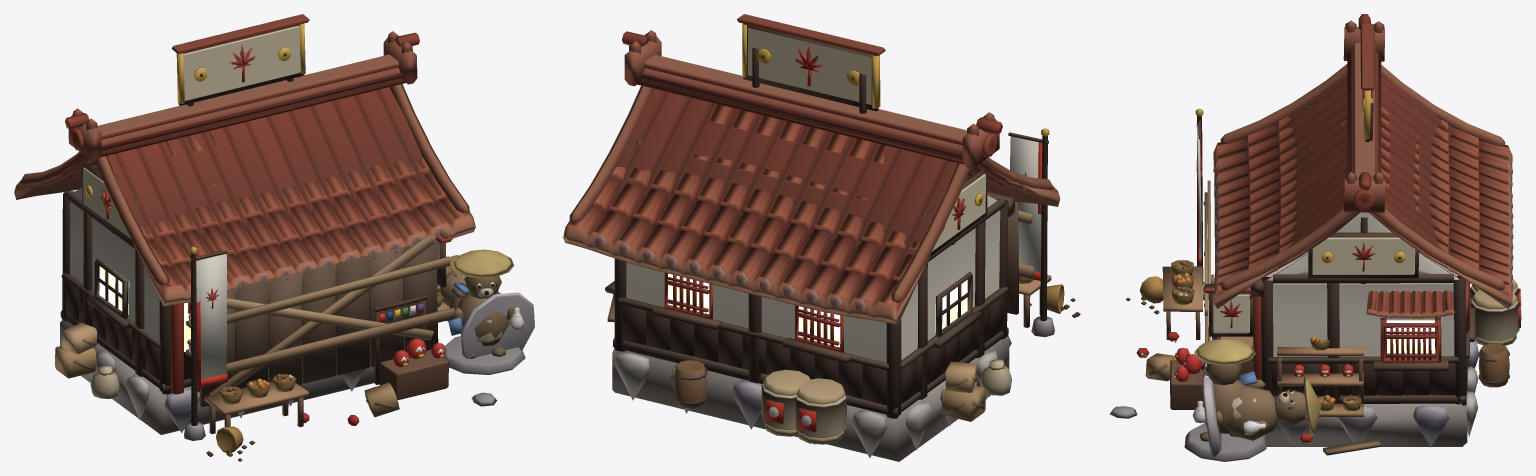
The model's file is zv-maple-shop.glb.
3 renders of one model, left to right at view 1: azimuth 30°, elevation 25°; view 2: azimuth 150°, elevation 25°; view 3: azimuth 270°, elevation 25°, orthographic. The views are drawn at different scales.
Parts seen in each view (by area): view 1: shop, siege, saved, window_glow; view 2: shop, saved, siege, window_glow; view 3: shop, saved, siege, window_glow.
Boxes of the visible parts, x1,y1,x2,y2 form: shop: [14, 14, 475, 434]; siege: [199, 235, 534, 461]; saved: [184, 246, 525, 440]; window_glow: [99, 263, 190, 351]; shop: [563, 14, 1060, 461]; saved: [1008, 128, 1054, 337]; siege: [607, 202, 1080, 322]; window_glow: [668, 273, 967, 347]; shop: [1203, 14, 1521, 447]; saved: [1162, 108, 1363, 461]; siege: [1109, 176, 1380, 457]; window_glow: [1386, 320, 1435, 353].
Size of the model in its own units: 5.11 by 4.19 by 4.77.
